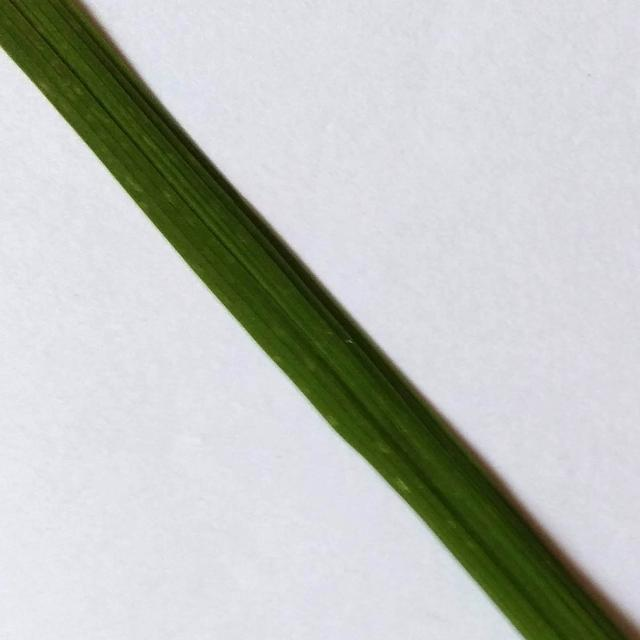Rice_Healthy: (0, 0, 638, 640)
